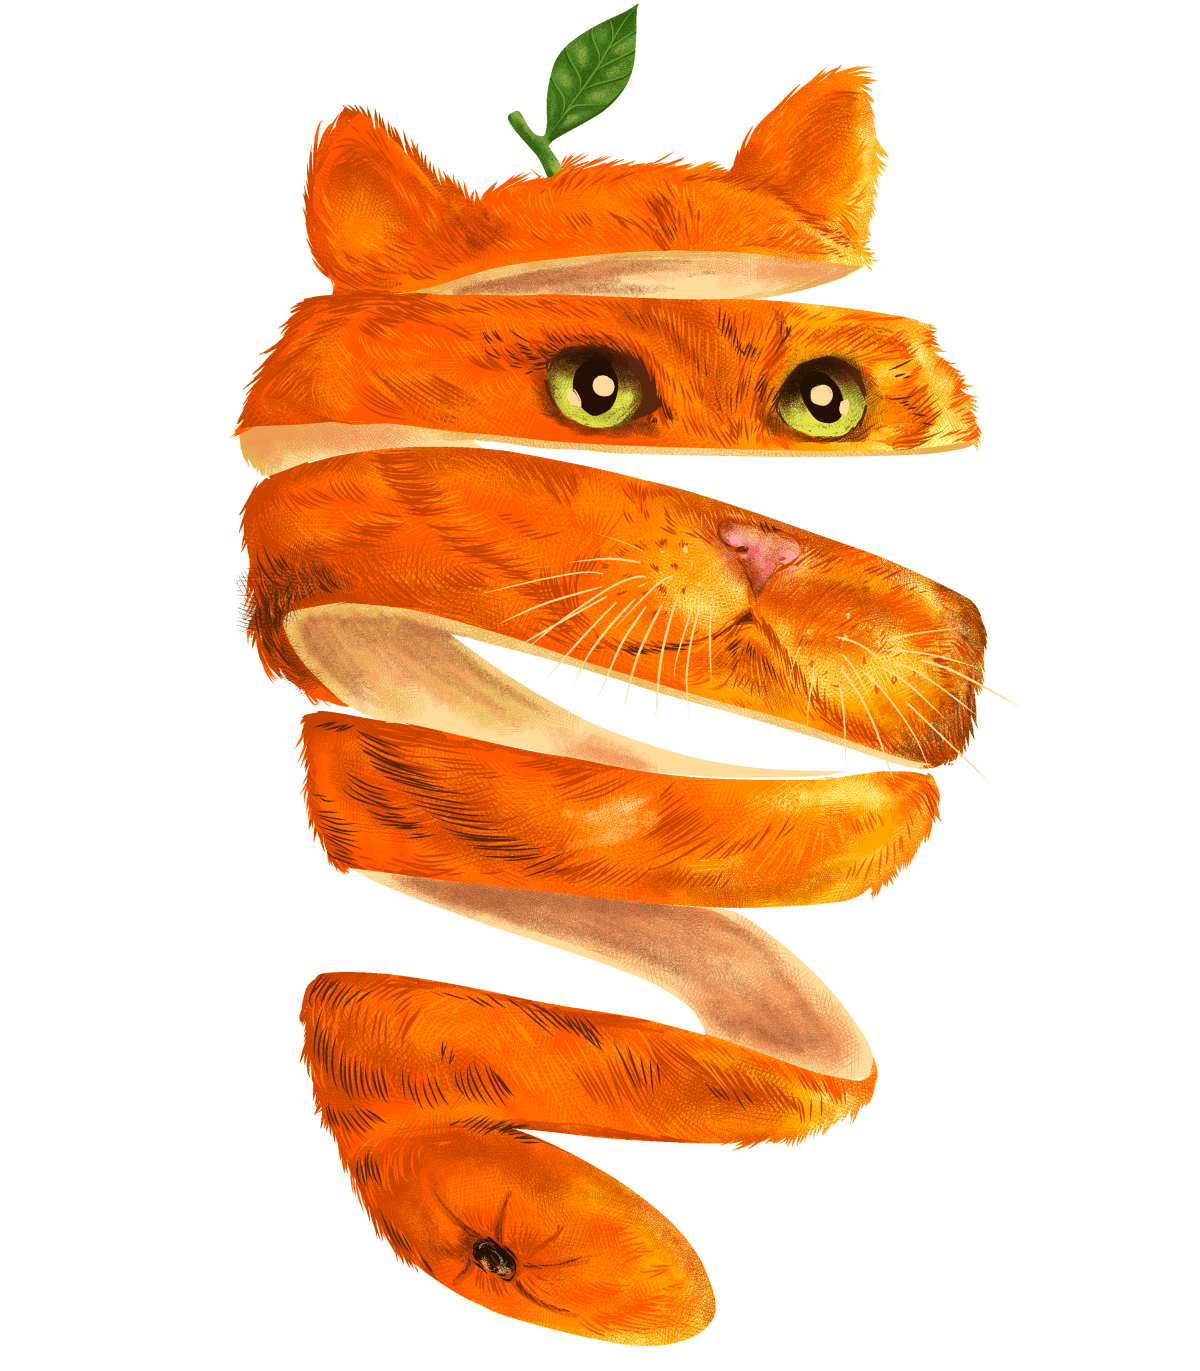design: (226, 5, 1009, 1357)
